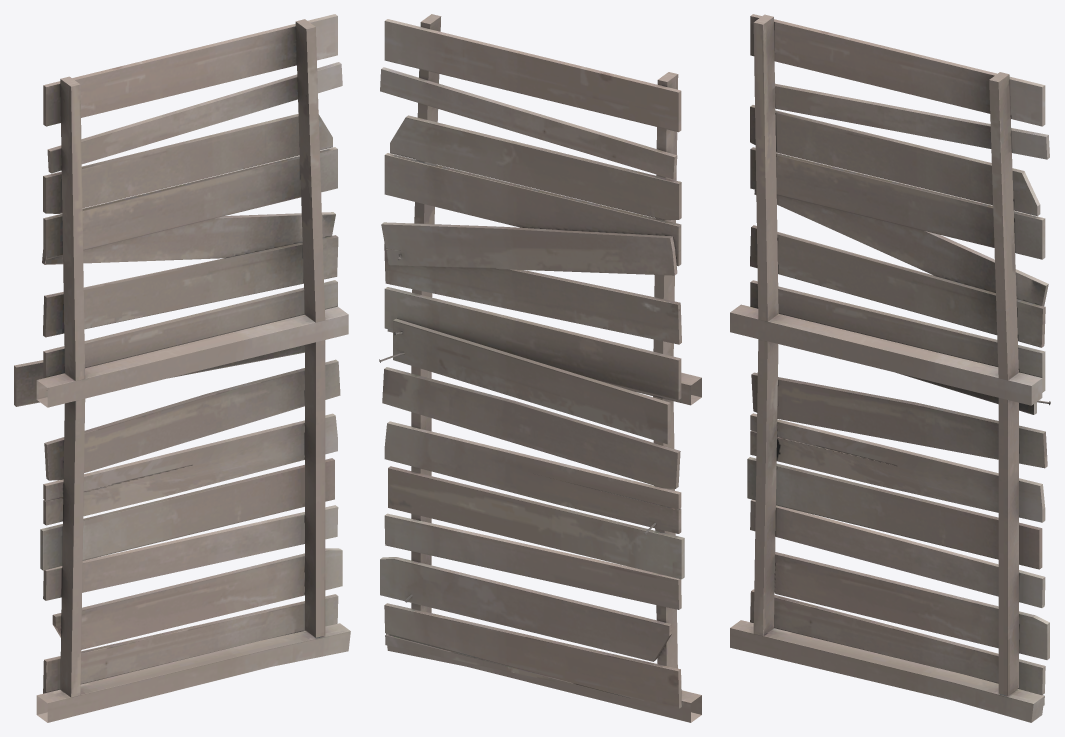
File: props_mining_fence001_reference.glb
3 views of the same model, side by side, from view 1: azimuth 30°, elevation 25°; view 2: azimuth 150°, elevation 25°; view 3: azimuth 330°, elevation 25° (orthographic).
Parts seen in each view (by area): view 1: models/props_mining/fence001_reference; view 2: models/props_mining/fence001_reference; view 3: models/props_mining/fence001_reference.
Boxes of the visible parts, x1=… form: models/props_mining/fence001_reference: x1=14, y1=14, x2=350, y2=722; models/props_mining/fence001_reference: x1=379, y1=14, x2=701, y2=722; models/props_mining/fence001_reference: x1=730, y1=14, x2=1050, y2=722.
Size of the model in its own units: 65.07 by 128 by 12.43.
1 material, 1 textured.
